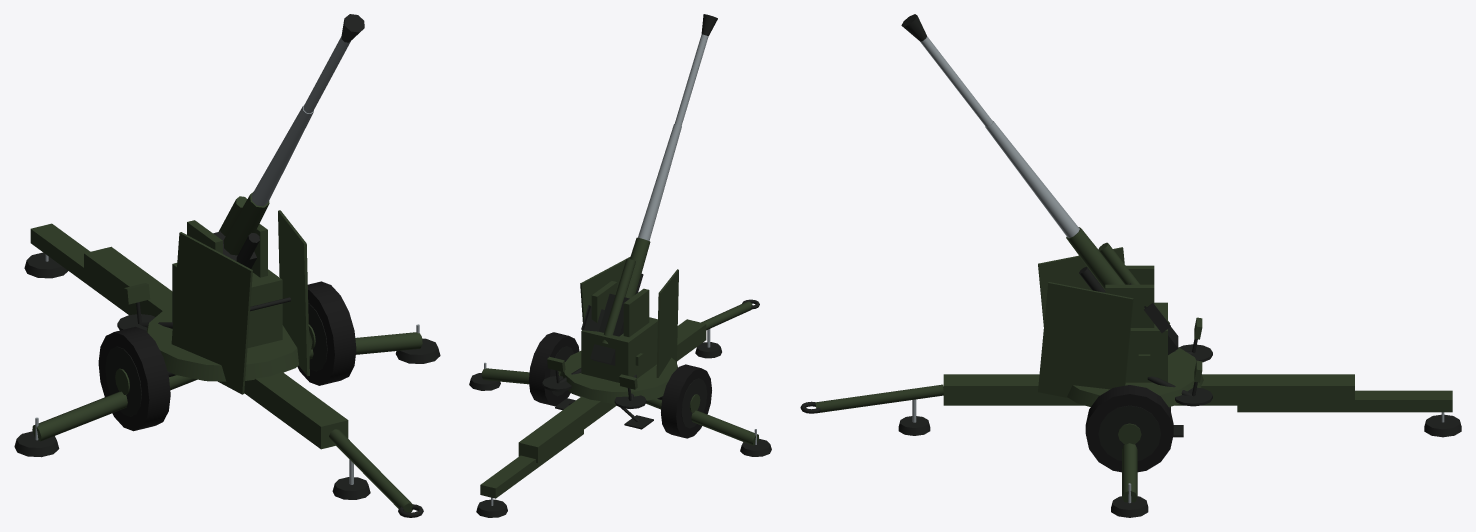
3 renders of one model, left to right at view 1: azimuth 30°, elevation 25°; view 2: azimuth 150°, elevation 25°; view 3: azimuth 270°, elevation 25°, orthographic. The views are drawn at different scales.
Parts seen in each view (by area): view 1: Mesh_ShieldR, Mesh_ChassisMain, Mesh_PedestalBase, Mesh_WheelR, Mesh_ShieldL, Mesh_WheelL, Mesh_PedestalBody, Mesh_RearOutrigger, Mesh_OutriggerR, Mesh_BarrelMid, Mesh_Drawbar, Mesh_WheelRimR (+11 smaller); view 2: Mesh_ChassisMain, Mesh_PedestalBody, Mesh_PedestalBase, Mesh_WheelR, Mesh_ShieldR, Mesh_WheelL, Mesh_RearOutrigger, Mesh_BarrelMid, Mesh_OutriggerR, Mesh_TrunnionBracketR, Mesh_ShieldL, Mesh_Breech (+11 smaller); view 3: Mesh_ShieldL, Mesh_ChassisMain, Mesh_WheelL, Mesh_RearOutrigger, Mesh_PedestalBase, Mesh_WheelRimL, Mesh_PedestalBody, Mesh_BarrelMid, Mesh_ShieldR, Mesh_Drawbar, Mesh_BarrelBase, Mesh_TrunnionBracketL (+2 smaller).
Part boxes in pixels (x1,y1,x2,y2): Mesh_ShieldR: (171,232,252,394); Mesh_ChassisMain: (84,246,348,449); Mesh_PedestalBase: (146,307,312,381); Mesh_WheelR: (98,326,170,431); Mesh_ShieldL: (278,210,309,376); Mesh_WheelL: (297,281,356,385); Mesh_PedestalBody: (172,263,282,348); Mesh_RearOutrigger: (30,223,135,314); Mesh_OutriggerR: (32,375,197,441); Mesh_BarrelMid: (251,105,313,206); Mesh_Drawbar: (329,429,413,512); Mesh_WheelRimR: (105,346,141,416); Mesh_ChassisMain: (518,319,706,463); Mesh_PedestalBody: (581,317,657,382); Mesh_PedestalBase: (560,351,677,403); Mesh_WheelR: (661,364,711,438); Mesh_ShieldR: (656,269,678,377); Mesh_WheelL: (528,332,579,406); Mesh_RearOutrigger: (480,430,583,498); Mesh_BarrelMid: (638,124,681,240); Mesh_OutriggerR: (646,398,758,445); Mesh_TrunnionBracketR: (623,288,649,336); Mesh_ShieldL: (580,257,630,322); Mesh_Breech: (590,293,629,365); Mesh_ShieldL: (1038,282,1133,397); Mesh_ChassisMain: (943,374,1354,405); Mesh_WheelL: (1085,385,1173,472); Mesh_RearOutrigger: (1237,390,1452,412); Mesh_PedestalBase: (1067,347,1203,406); Mesh_WheelRimL: (1098,405,1160,460); Mesh_PedestalBody: (1125,302,1167,382); Mesh_BarrelMid: (985,120,1079,237); Mesh_ShieldR: (1038,247,1124,326); Mesh_Drawbar: (815,384,943,413); Mesh_BarrelBase: (1066,227,1124,290); Mesh_TrunnionBracketL: (1105,284,1154,327).
Bounding box in the file's own units: 4.3 × 4.67 × 6.76.
